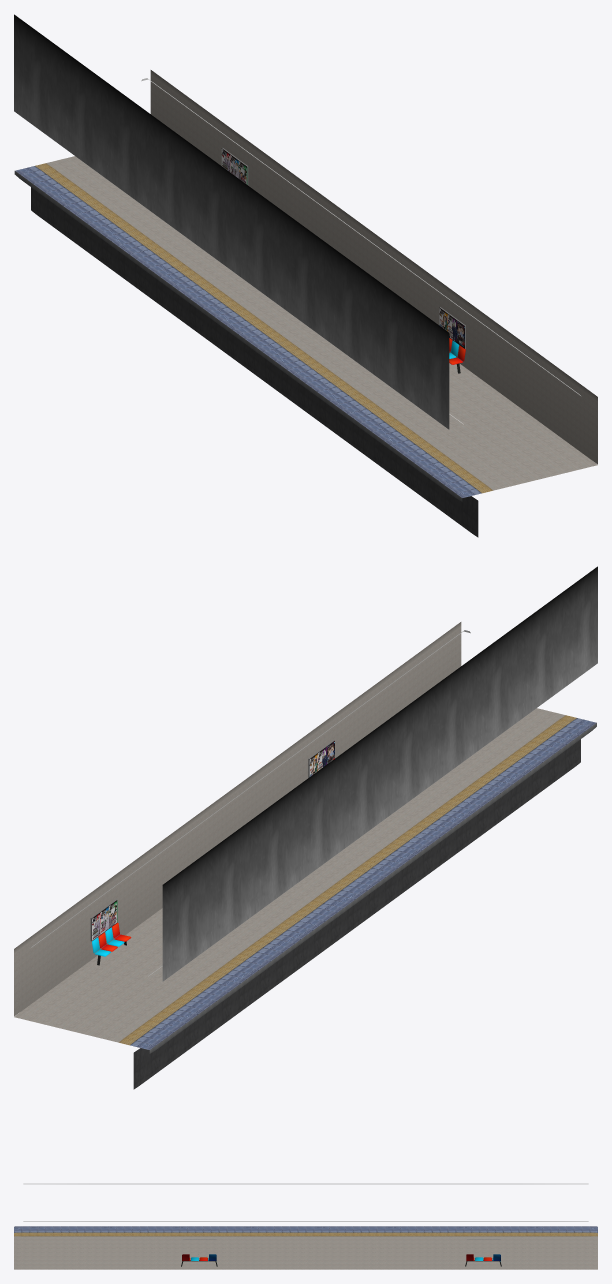
File: AMB_HOME2_CHIKA.glb
3 renders of one model, top to bottom at view 1: azimuth 30°, elevation 25°; view 2: azimuth 150°, elevation 25°; view 3: azimuth 270°, elevation 25°, orthographic. The views are drawn at different scales.
Visible parts, largest first — view 1: Mesh2, obj28; view 2: Mesh2, obj27; view 3: Mesh2, obj28, obj27.
Part boxes in pixels (x1,y1,x2,y2): Mesh2: (14, 14, 597, 537); obj28: (439, 307, 465, 373); Mesh2: (14, 566, 597, 1089); obj27: (90, 899, 131, 965); Mesh2: (14, 1183, 597, 1269); obj28: (181, 1239, 217, 1266); obj27: (465, 1239, 501, 1266).
Bounding box in the file's own units: 18.92 × 26.11 × 103.
16 materials, 15 textured.
